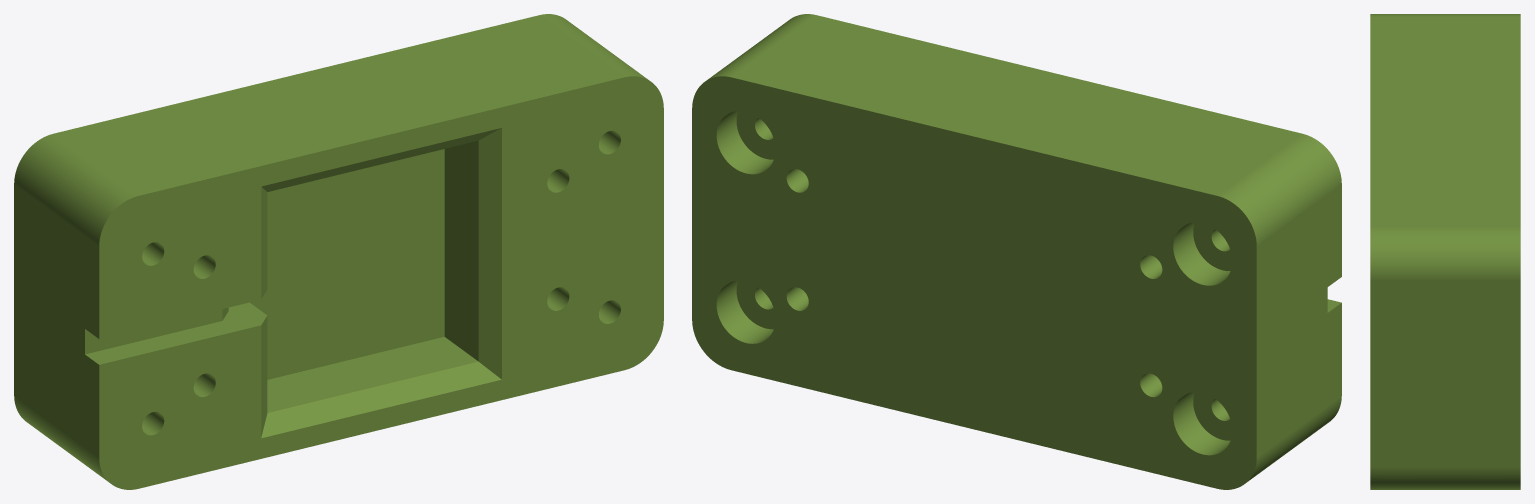
The model's file is sujetador motor.obj.
3 views of the same model, side by side, from view 1: azimuth 30°, elevation 25°; view 2: azimuth 150°, elevation 25°; view 3: azimuth 270°, elevation 25° (orthographic). The views are drawn at different scales.
Parts seen in each view (by area): view 1: Solid1; view 2: Solid1; view 3: Solid1.
Part boxes in pixels (<box>): Solid1: <box>14,14,663,489</box>; Solid1: <box>692,14,1341,489</box>; Solid1: <box>1370,14,1520,489</box>.
Bounding box in the file's own units: 115 × 57 × 30.
